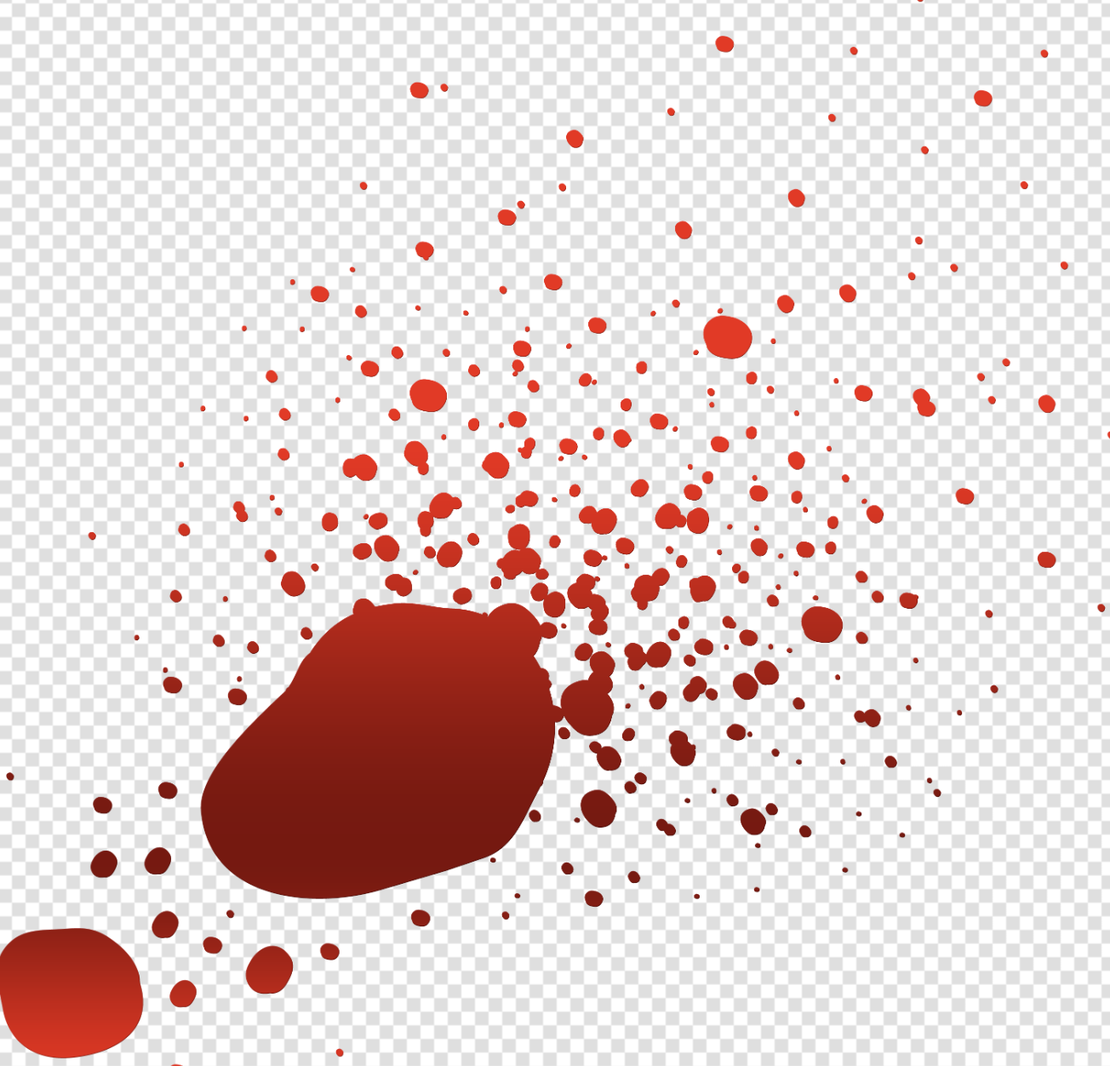blood_16.png: (17, 30, 1068, 1050)
